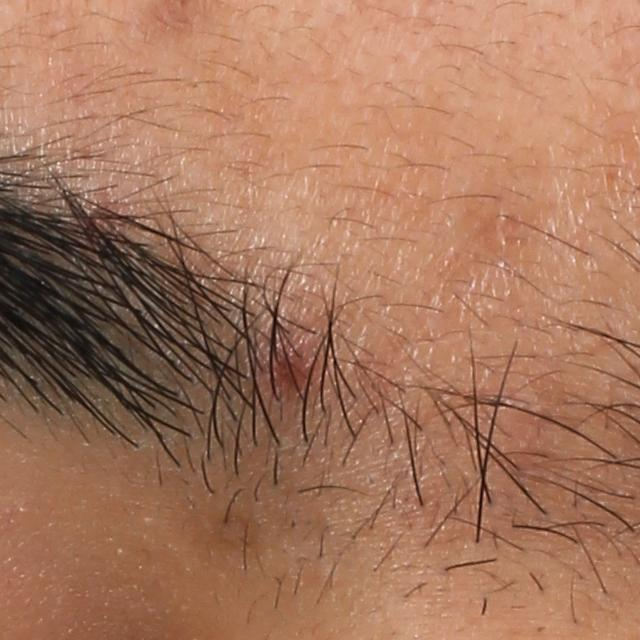papule: (271, 339, 307, 394)
